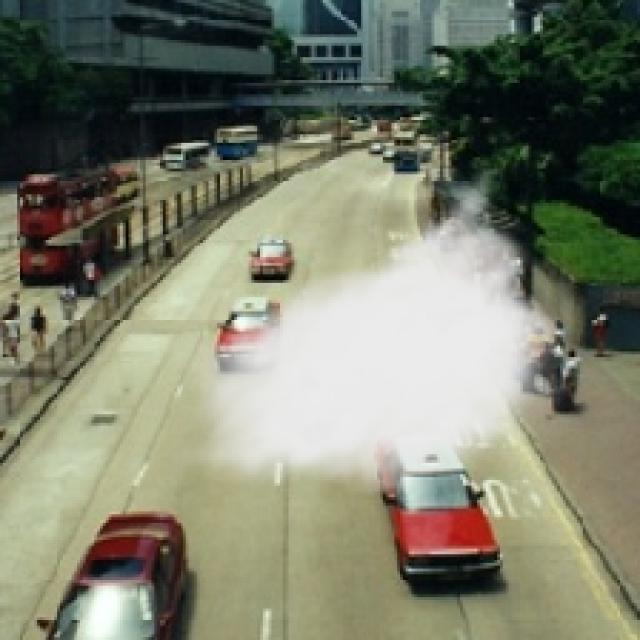smoke: (169, 160, 577, 503)
